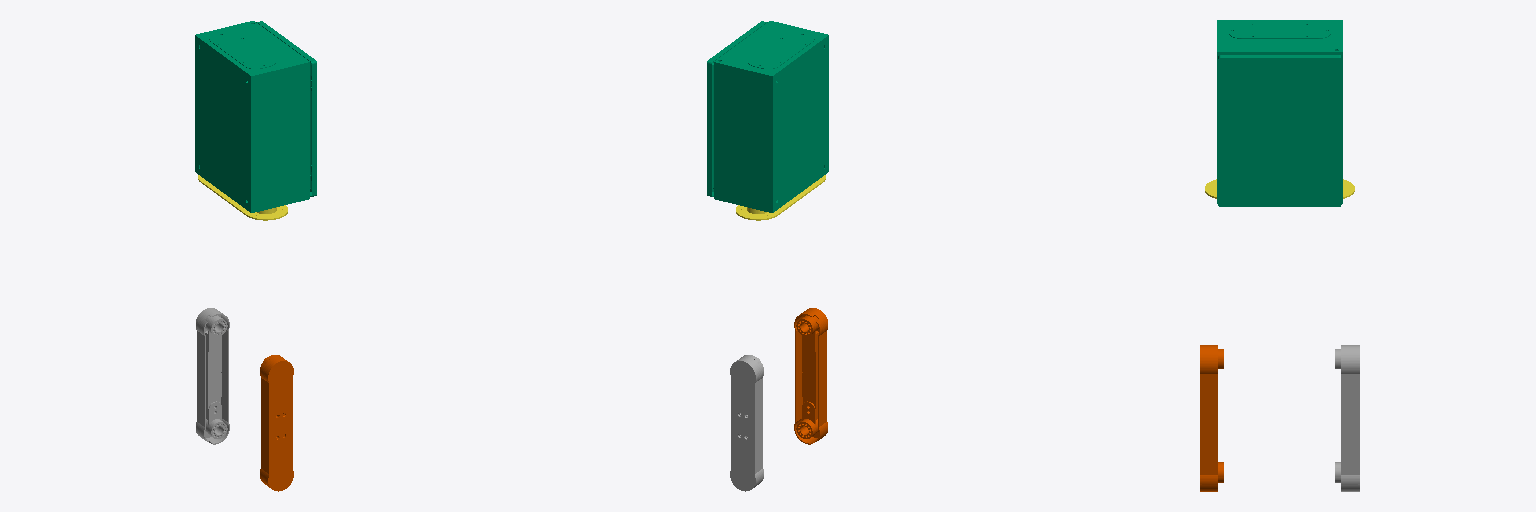
URDF robot description (robot):
<?xml version='1.0' encoding='utf-8'?>
<robot name="robot">
    <link name="root" />
    <link name="imu_link">
        <inertial>
            <origin xyz="-1.5026528643602432e-09 9.498352104841956e-10 1.0161999197677574e-09" rpy="0 0 0" />
            <mass value="4.0212385965949355e-08" />
            <inertia ixx="6.433981754576942e-14" iyy="6.433981754628641e-14" izz="6.43398175467e-14" ixy="-5.169878828456423e-26" iyz="6.462348535569894e-27" ixz="-2.0313346132562858e-29" />
        </inertial>
        <visual name="imu_link_visual">
            <origin xyz="-0.03699100341761863 0.24384999549936293 -0.007599998813926423" rpy="1.5707963267948952 1.5707963267948948 0" />
            <geometry>
                <mesh filename="meshes/imu_link.stl" scale="0.001 0.001 0.001" />
            </geometry>
        </visual>
        <collision name="imu_link_collision">
            <origin xyz="-0.03699100341761863 0.24384999549936293 -0.007599998813926423" rpy="1.5707963267948952 1.5707963267948948 0" />
            <geometry>
                <mesh filename="meshes/imu_link.stl" scale="0.001 0.001 0.001" />
            </geometry>
        </collision>
    </link>
    <link name="torso_link">
        <inertial>
            <origin xyz="0.01593222156183444 -3.145450797484451e-05 0.20663353936107798" rpy="0 0 0" />
            <mass value="11.977159824591427" />
            <inertia ixx="0.24915534005794093" iyy="0.21206568686277028" izz="0.1485094454191971" ixy="0.0016001862485177179" iyz="0.007735516153497295" ixz="0.00012734147855406172" />
        </inertial>
        <visual name="torso_link_visual">
            <origin xyz="-0.06119999999684114 0.25000000191496574 0.000900000000000174" rpy="1.5707963267948968 0 1.5707963267948972" />
            <geometry>
                <mesh filename="meshes/torso_link.stl" scale="0.001 0.001 0.001" />
            </geometry>
        </visual>
        <collision name="torso_link_collision">
            <origin xyz="-0.06119999999684114 0.25000000191496574 0.000900000000000174" rpy="1.5707963267948968 0 1.5707963267948972" />
            <geometry>
                <mesh filename="meshes/torso_link.stl" scale="0.001 0.001 0.001" />
            </geometry>
        </collision>
    </link>
    <link name="pelvis_link">
        <inertial>
            <origin xyz="1.1402650899611848e-10 2.026382982335143e-06 0.0012389964670407039" rpy="0 0 0" />
            <mass value="0.6794274689016202" />
            <inertia ixx="0.0005817195626032596" iyy="0.005653686551697903" izz="0.006193908913931396" ixy="3.946391888010182e-13" iyz="-8.620055385539157e-09" ixz="-4.724706015143538e-13" />
        </inertial>
        <visual name="pelvis_link_visual">
            <origin xyz="0 0 0" rpy="0 0 0" />
            <geometry>
                <mesh filename="meshes/pelvis_link.stl" scale="0.001 0.001 0.001" />
            </geometry>
        </visual>
        <collision name="pelvis_link_collision">
            <origin xyz="0 0 0" rpy="0 0 0" />
            <geometry>
                <mesh filename="meshes/pelvis_link.stl" scale="0.001 0.001 0.001" />
            </geometry>
        </collision>
    </link>
    <link name="l_hip_yaw_link">
        <inertial>
            <origin xyz="-0.00047456822681581523 -0.06506879079027197 0.06050685449757705" rpy="0 0 0" />
            <mass value="4.59759043690152" />
            <inertia ixx="0.02748894534138005" iyy="0.020589110397838364" izz="0.01702790581395454" ixy="5.645423529085669e-05" iyz="0.005720242363571582" ixz="5.5156311640644055e-05" />
        </inertial>
        <visual name="l_hip_yaw_link_visual">
            <origin xyz="3.0660106012461938e-12 -7.660059253566943e-12 0" rpy="3.1415926535897873 0 1.5707963267948961" />
            <geometry>
                <mesh filename="meshes/l_hip_yaw_link.stl" scale="0.001 0.001 0.001" />
            </geometry>
        </visual>
        <collision name="l_hip_yaw_link_collision">
            <origin xyz="3.0660106012461938e-12 -7.660059253566943e-12 0" rpy="3.1415926535897873 0 1.5707963267948961" />
            <geometry>
                <mesh filename="meshes/l_hip_yaw_link.stl" scale="0.001 0.001 0.001" />
            </geometry>
        </collision>
    </link>
    <link name="l_hip_pitch_link">
        <inertial>
            <origin xyz="0.0001750845152306013 0.07153092438325942 -0.021963910412087787" rpy="0 0 0" />
            <mass value="1.5694234274454537" />
            <inertia ixx="0.00224102636839427" iyy="0.0021147367229131867" izz="0.0033828520167634435" ixy="1.6624394674012027e-05" iyz="5.0051102438439566e-05" ixz="1.2029026855222516e-05" />
        </inertial>
        <visual name="l_hip_pitch_link_visual">
            <origin xyz="0 -2.2567192559108663e-11 1.7907776858508836e-11" rpy="-1.570796326794916 0 3.141592653589793" />
            <geometry>
                <mesh filename="meshes/l_hip_pitch_link.stl" scale="0.001 0.001 0.001" />
            </geometry>
        </visual>
        <collision name="l_hip_pitch_link_collision">
            <origin xyz="0 -2.2567192559108663e-11 1.7907776858508836e-11" rpy="-1.570796326794916 0 3.141592653589793" />
            <geometry>
                <mesh filename="meshes/l_hip_pitch_link.stl" scale="0.001 0.001 0.001" />
            </geometry>
        </collision>
    </link>
    <link name="l_thigh_link">
        <inertial>
            <origin xyz="0.012553709214825308 -0.23291562098985508 0.010916161389551907" rpy="0 0 0" />
            <mass value="2.369372553481698" />
            <inertia ixx="0.025084390179226923" iyy="0.002698008734614607" izz="0.026397284292302814" ixy="-0.0023958564512892525" iyz="0.00013543868353942167" ixz="6.514120145757125e-06" />
        </inertial>
        <visual name="l_thigh_link_visual">
            <origin xyz="0.003999999988222269 0 3.807370276831534e-09" rpy="1.5707963267948966 0 1.5707963267949099" />
            <geometry>
                <mesh filename="meshes/l_thigh_link.stl" scale="0.001 0.001 0.001" />
            </geometry>
        </visual>
        <collision name="l_thigh_link_collision">
            <origin xyz="0.003999999988222269 0 3.807370276831534e-09" rpy="1.5707963267948966 0 1.5707963267949099" />
            <geometry>
                <mesh filename="meshes/l_thigh_link.stl" scale="0.001 0.001 0.001" />
            </geometry>
        </collision>
    </link>
    <link name="l_shank_link">
        <inertial>
            <origin xyz="0.00026146220509067785 -0.15088709692723135 -0.03709591562452564" rpy="0 0 0" />
            <mass value="1.096633510267543" />
            <inertia ixx="0.010155164112291393" iyy="0.0004785159565456748" izz="0.010305891816942137" ixy="3.838883513556952e-06" iyz="-2.3899250245208547e-05" ixz="1.1489190133089684e-06" />
        </inertial>
        <visual name="l_shank_link_visual">
            <origin xyz="-1.1777419040015502e-11 0 3.616717130228153e-09" rpy="3.141592653589643 0 1.5707963267948968" />
            <geometry>
                <mesh filename="meshes/l_shank_link.stl" scale="0.001 0.001 0.001" />
            </geometry>
        </visual>
        <collision name="l_shank_link_collision">
            <origin xyz="-1.1777419040015502e-11 0 3.616717130228153e-09" rpy="3.141592653589643 0 1.5707963267948968" />
            <geometry>
                <mesh filename="meshes/l_shank_link.stl" scale="0.001 0.001 0.001" />
            </geometry>
        </collision>
    </link>
    <link name="l_ankle_link">
        <inertial>
            <origin xyz="0.0027808433286506213 0.023304363058726345 -0.0001717188189263652" rpy="0 0 0" />
            <mass value="1.5821847782034173" />
            <inertia ixx="0.0021288819653358937" iyy="0.0034820066103026237" izz="0.0023408328144144674" ixy="5.000866856317166e-05" iyz="1.2046304114304883e-05" ixz="-1.8271438666140506e-05" />
        </inertial>
        <visual name="l_ankle_link_visual">
            <origin xyz="0.07402716563147126 0.00900000361667887 3.742988451506335e-05" rpy="0 -1.5707963267947658 0" />
            <geometry>
                <mesh filename="meshes/l_ankle_link.stl" scale="0.001 0.001 0.001" />
            </geometry>
        </visual>
        <collision name="l_ankle_link_collision">
            <origin xyz="0.07402716563147126 0.00900000361667887 3.742988451506335e-05" rpy="0 -1.5707963267947658 0" />
            <geometry>
                <mesh filename="meshes/l_ankle_link.stl" scale="0.001 0.001 0.001" />
            </geometry>
        </collision>
    </link>
    <link name="l_foot_link">
        <inertial>
            <origin xyz="0.013580536543132888 0.0005512383333787874 0.016498509460245715" rpy="0 0 0" />
            <mass value="1.9784795442649168" />
            <inertia ixx="0.005536557019526711" iyy="0.006565687681847621" izz="0.005425303439420534" ixy="-6.310050487873506e-06" iyz="3.543231174644346e-05" ixz="0.0011191734839326715" />
        </inertial>
        <visual name="l_foot_link_visual">
            <origin xyz="0.00019999563147128364 3.616678903028969e-09 -1.1548493716873054e-10" rpy="1.5707963267948957 0 -1.570796326794889" />
            <geometry>
                <mesh filename="meshes/l_foot_link.stl" scale="0.001 0.001 0.001" />
            </geometry>
        </visual>
        <collision name="l_foot_link_collision">
            <origin xyz="0.00019999563147128364 3.616678903028969e-09 -1.1548493716873054e-10" rpy="1.5707963267948957 0 -1.570796326794889" />
            <geometry>
                <mesh filename="meshes/l_foot_link.stl" scale="0.001 0.001 0.001" />
            </geometry>
        </collision>
    </link>
    <link name="r_hip_yaw_link">
        <inertial>
            <origin xyz="0.0004745682329473446 0.06506879070310788 0.0605068544975713" rpy="0 0 0" />
            <mass value="4.597590436901953" />
            <inertia ixx="0.027488945309262214" iyy="0.020589110397839276" izz="0.017027905781836702" ixy="5.6454235138418324e-05" iyz="-0.005720242378940415" ixz="-5.515631164040424e-05" />
        </inertial>
        <visual name="r_hip_yaw_link_visual">
            <origin xyz="3.0661233181081187e-12 -7.659224365852424e-12 0" rpy="-3.1415926535897865 0 -1.570796326794897" />
            <geometry>
                <mesh filename="meshes/r_hip_yaw_link.stl" scale="0.001 0.001 0.001" />
            </geometry>
        </visual>
        <collision name="r_hip_yaw_link_collision">
            <origin xyz="3.0661233181081187e-12 -7.659224365852424e-12 0" rpy="-3.1415926535897865 0 -1.570796326794897" />
            <geometry>
                <mesh filename="meshes/r_hip_yaw_link.stl" scale="0.001 0.001 0.001" />
            </geometry>
        </collision>
    </link>
    <link name="r_hip_pitch_link">
        <inertial>
            <origin xyz="0.0001726520246478991 -0.07292043829718715 -0.021963910441858876" rpy="0 0 0" />
            <mass value="1.5694238131593665" />
            <inertia ixx="0.0022531266518003926" iyy="0.002114738320472452" izz="0.003394953837820368" ixy="1.8141175270446758e-05" iyz="-4.1538693559326826e-05" ixz="1.2112879820375563e-05" />
        </inertial>
        <visual name="r_hip_pitch_link_visual">
            <origin xyz="0 7.247997757531266e-12 -1.1777870345675014e-11" rpy="-1.5707963267948841 0 0" />
            <geometry>
                <mesh filename="meshes/r_hip_pitch_link.stl" scale="0.001 0.001 0.001" />
            </geometry>
        </visual>
        <collision name="r_hip_pitch_link_collision">
            <origin xyz="0 7.247997757531266e-12 -1.1777870345675014e-11" rpy="-1.5707963267948841 0 0" />
            <geometry>
                <mesh filename="meshes/r_hip_pitch_link.stl" scale="0.001 0.001 0.001" />
            </geometry>
        </collision>
    </link>
    <link name="r_thigh_link">
        <inertial>
            <origin xyz="0.01163332958878565 -0.23291562099188162 -0.010916161389551711" rpy="0 0 0" />
            <mass value="2.3693725534819126" />
            <inertia ixx="0.025084390180051763" iyy="0.002735488891620081" izz="0.026434764450132986" ixy="-0.002577056099032181" iyz="-0.00013543868358914467" ixz="3.4205982136662436e-06" />
        </inertial>
        <visual name="r_thigh_link_visual">
            <origin xyz="0.003999999988222269 0 -3.807370276831534e-09" rpy="-1.5707963267948966 0 1.5707963267949099" />
            <geometry>
                <mesh filename="meshes/r_thigh_link.stl" scale="0.001 0.001 0.001" />
            </geometry>
        </visual>
        <collision name="r_thigh_link_collision">
            <origin xyz="0.003999999988222269 0 -3.807370276831534e-09" rpy="-1.5707963267948966 0 1.5707963267949099" />
            <geometry>
                <mesh filename="meshes/r_thigh_link.stl" scale="0.001 0.001 0.001" />
            </geometry>
        </collision>
    </link>
    <link name="r_shank_link">
        <inertial>
            <origin xyz="0.00026146220509239983 -0.1508870969272305 0.03709591562452065" rpy="0 0 0" />
            <mass value="1.0966335102675413" />
            <inertia ixx="0.010155164112315707" iyy="0.00047851595652267237" izz="0.010305891816943413" ixy="3.838883513223451e-06" iyz="2.389925024517958e-05" ixz="-1.1489190133404608e-06" />
        </inertial>
        <visual name="r_shank_link_visual">
            <origin xyz="-1.1777419040015502e-11 0 -3.616717130228153e-09" rpy="-3.141592653589643 0 1.5707963267948968" />
            <geometry>
                <mesh filename="meshes/r_shank_link.stl" scale="0.001 0.001 0.001" />
            </geometry>
        </visual>
        <collision name="r_shank_link_collision">
            <origin xyz="-1.1777419040015502e-11 0 -3.616717130228153e-09" rpy="-3.141592653589643 0 1.5707963267948968" />
            <geometry>
                <mesh filename="meshes/r_shank_link.stl" scale="0.001 0.001 0.001" />
            </geometry>
        </collision>
    </link>
    <link name="r_ankle_link">
        <inertial>
            <origin xyz="0.004155641520986955 0.02330436305872695 0.000176119931110037" rpy="0 0 0" />
            <mass value="1.5821847782032865" />
            <inertia ixx="0.0021288797440784935" iyy="0.003466319534321527" izz="0.002325147959690615" ixy="5.8591849147256615e-05" iyz="-1.1993435422907835e-05" ixz="-1.6541073283192516e-05" />
        </inertial>
        <visual name="r_ankle_link_visual">
            <origin xyz="0.07397279406218389 0.009000003616681962 3.74061604505016e-05" rpy="0 1.5707963267948422 0" />
            <geometry>
                <mesh filename="meshes/r_ankle_link.stl" scale="0.001 0.001 0.001" />
            </geometry>
        </visual>
        <collision name="r_ankle_link_collision">
            <origin xyz="0.07397279406218389 0.009000003616681962 3.74061604505016e-05" rpy="0 1.5707963267948422 0" />
            <geometry>
                <mesh filename="meshes/r_ankle_link.stl" scale="0.001 0.001 0.001" />
            </geometry>
        </collision>
    </link>
    <link name="r_foot_link">
        <inertial>
            <origin xyz="0.013583180362856488 -0.0005512311000183346 -0.01650214071706941" rpy="0 0 0" />
            <mass value="1.9784795442649097" />
            <inertia ixx="0.00553720070088648" iyy="0.0065661485027541655" izz="0.005425120578966984" ixy="6.307189630936237e-06" iyz="3.5436249377760904e-05" ixz="-0.0011190654959026282" />
        </inertial>
        <visual name="r_foot_link_visual">
            <origin xyz="0.00020000406218381172 3.616682047180575e-09 -3.839549549411459e-09" rpy="-1.5707963267948892 0 1.5707963267949696" />
            <geometry>
                <mesh filename="meshes/r_foot_link.stl" scale="0.001 0.001 0.001" />
            </geometry>
        </visual>
        <collision name="r_foot_link_collision">
            <origin xyz="0.00020000406218381172 3.616682047180575e-09 -3.839549549411459e-09" rpy="-1.5707963267948892 0 1.5707963267949696" />
            <geometry>
                <mesh filename="meshes/r_foot_link.stl" scale="0.001 0.001 0.001" />
            </geometry>
        </collision>
    </link>
    
    <joint name="root" type="fixed">
        <parent link="root" />
        <child link="pelvis_link" />
        <origin xyz="0 0 0.84" rpy="0 0 1.57079632679" />
    </joint>
    <joint name="pelvis_link_torso_joint" type="fixed">
        <origin xyz="-7.659717486428201e-12 -0.0004999999969337935 0.015" rpy="0 0 -1.570796326794897" />
        <parent link="pelvis_link" />
        <child link="torso_link" />
    </joint>
    <joint name="pelvis_link_l_yaw_joint" type="revolute">
        <origin xyz="0.11999999999233989 3.066148575681922e-12 -0.012" rpy="-3.1415926535897754 0 -1.570796326794897" />
        <parent link="pelvis_link" />
        <child link="l_hip_yaw_link" />
        <axis xyz="0 0 1.0" />
        <limit lower="-0.523599" upper="0.523599" effort="1000000" velocity="1000000" />
    </joint>
    <joint name="pelvis_link_r_yaw_joint" type="revolute">
        <origin xyz="-0.12000000000765933 3.0662609857631655e-12 -0.012" rpy="-3.1415926535897754 0 -1.570796326794897" />
        <parent link="pelvis_link" />
        <child link="r_hip_yaw_link" />
        <axis xyz="0 0 -1.0" />
        <limit lower="-0.523599" upper="0.523599" effort="1000000" velocity="1000000" />
    </joint>
    <joint name="l_hip_yaw_link_l_pitch_joint" type="revolute">
        <origin xyz="0 -0.07499999999999755 0.13630000000000136" rpy="0 1.5707963267948786 0" />
        <parent link="l_hip_yaw_link" />
        <child link="l_hip_pitch_link" />
        <axis xyz="0 1.0 0" />
        <limit lower="-0.698132" upper="1.047198" effort="1000000" velocity="1000000" />
    </joint>
    <joint name="r_hip_yaw_link_r_pitch_joint" type="revolute">
        <origin xyz="0 0.07500000000000245 0.13629999999999867" rpy="0 1.5707963267948786 0" />
        <parent link="r_hip_yaw_link" />
        <child link="r_hip_pitch_link" />
        <axis xyz="0 1.0 0" />
        <limit lower="-0.698132" upper="1.047198" effort="1000000" velocity="1000000" />
    </joint>
    <joint name="l_hip_pitch_link_l_roll_joint" type="revolute">
        <origin xyz="0 0.075 0.0012999999999999908" rpy="-1.5707963267948966 -1.5707963267948963 0" />
        <parent link="l_hip_pitch_link" />
        <child link="l_thigh_link" />
        <axis xyz="1.0 0 0" />
        <limit lower="-0.436332" upper="0.436332" effort="1000000" velocity="1000000" />
    </joint>
    <joint name="r_hip_pitch_link_r_roll_joint" type="revolute">
        <origin xyz="0 -0.075 0.0013000000000000093" rpy="-1.5707963267948966 -1.5707963267948963 0" />
        <parent link="r_hip_pitch_link" />
        <child link="r_thigh_link" />
        <axis xyz="-1.0 0 0" />
        <limit lower="-0.436332" upper="0.436332" effort="1000000" velocity="1000000" />
    </joint>
    <joint name="l_thigh_link_l_knee_joint" type="revolute">
        <origin xyz="0.003499999999999997 -0.3 -0.013000000000000008" rpy="0 0 0" />
        <parent link="l_thigh_link" />
        <child link="l_shank_link" />
        <axis xyz="0 0 -1.0" />
        <limit lower="0.0" upper="2.094395" effort="1000000" velocity="1000000" />
    </joint>
    <joint name="r_thigh_link_r_knee_joint" type="revolute">
        <origin xyz="0.0035000000000000027 -0.3 0.013000000000000008" rpy="0 0 0" />
        <parent link="r_thigh_link" />
        <child link="r_shank_link" />
        <axis xyz="0 0 -1.0" />
        <limit lower="0.0" upper="2.094395" effort="1000000" velocity="1000000" />
    </joint>
    <joint name="l_shank_link_l_ankle_joint" type="revolute">
        <origin xyz="0 -0.3 0" rpy="1.5707963267948968 0 0" />
        <parent link="l_shank_link" />
        <child link="l_ankle_link" />
        <axis xyz="0 1.0 0" />
        <limit lower="-0.610865" upper="0.610865" effort="1000000" velocity="1000000" />
    </joint>
    <joint name="r_shank_link_r_ankle_joint" type="revolute">
        <origin xyz="0 -0.3 0" rpy="-1.5707963267948966 0 0" />
        <parent link="r_shank_link" />
        <child link="r_ankle_link" />
        <axis xyz="0 -1.0 0" />
        <limit lower="-0.610865" upper="0.610865" effort="1000000" velocity="1000000" />
    </joint>
    <joint name="l_ankle_link_l_foot_joint" type="revolute">
        <origin xyz="0.07402717 0.009000000000000005 3.743000000000052e-05" rpy="0 0 0" />
        <parent link="l_ankle_link" />
        <child link="l_foot_link" />
        <axis xyz="1.0 0 0" />
        <limit lower="-0.349066" upper="0.349066" effort="1000000" velocity="1000000" />
    </joint>
    <joint name="r_ankle_link_r_foot_joint" type="revolute">
        <origin xyz="0.07397279 0.009000000000000005 3.7410000000051014e-05" rpy="0 0 0" />
        <parent link="r_ankle_link" />
        <child link="r_foot_link" />
        <axis xyz="-1.0 0 0" />
        <limit lower="-0.349066" upper="0.349066" effort="1000000" velocity="1000000" />
    </joint>
    <joint name="torso_link_imu_joint" type="fixed">
        <origin xyz="-0.008200000000000002 0.03699099999999994 0.22879999" rpy="0 -1.5707963267948963 0" />
        <parent link="torso_link" />
        <child link="imu_link" />
    </joint>
</robot>

--- Facts derived from the render (not from the file) ---
The picture shows the robot from 3 angles, left to right: view 1: azimuth 30°, elevation 25°; view 2: azimuth 150°, elevation 25°; view 3: azimuth 270°, elevation 25°; orthographic projection.
Robot: robot — 16 links, 15 joints (12 revolute, 3 fixed); root link root; default pose: every joint at zero.
Links seen in each view (by area): view 1: torso_link, l_shank_link, r_shank_link, pelvis_link; view 2: torso_link, l_shank_link, r_shank_link, pelvis_link; view 3: torso_link, l_shank_link, r_shank_link.
Boxes of the visible links, left/top/right/bottom form: torso_link: left=195, top=21, right=316, bottom=212; l_shank_link: left=196, top=308, right=229, bottom=444; r_shank_link: left=260, top=355, right=293, bottom=491; pelvis_link: left=198, top=175, right=287, bottom=220; torso_link: left=707, top=21, right=828, bottom=212; l_shank_link: left=730, top=355, right=763, bottom=491; r_shank_link: left=794, top=308, right=827, bottom=444; pelvis_link: left=736, top=175, right=825, bottom=220; torso_link: left=1217, top=20, right=1342, bottom=206; l_shank_link: left=1335, top=345, right=1359, bottom=491; r_shank_link: left=1200, top=345, right=1223, bottom=491.
Size in the robot's own frame: 0.2022 by 0.3901 by 1.21 metres.
11 mesh visuals loaded from 15 distinct referenced files (11 binary STL); not drawn: 4 (reference not matched to a file when rendering).
